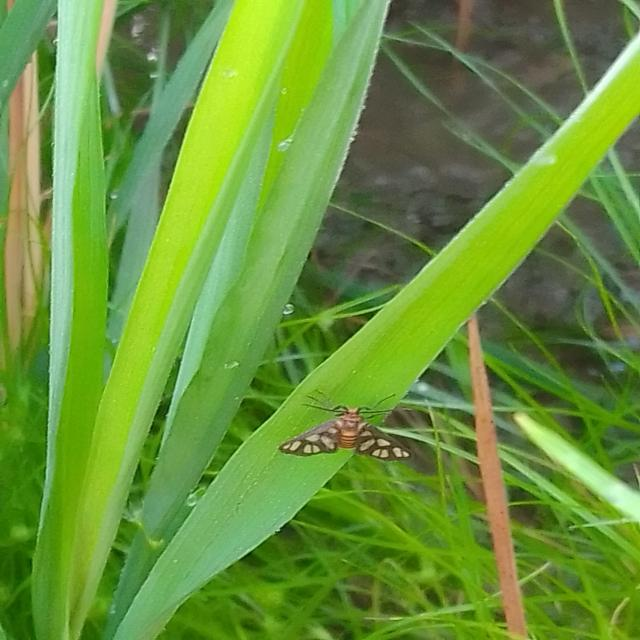Brown spot: (458, 300, 549, 640), (2, 4, 42, 359), (53, 0, 134, 106)
